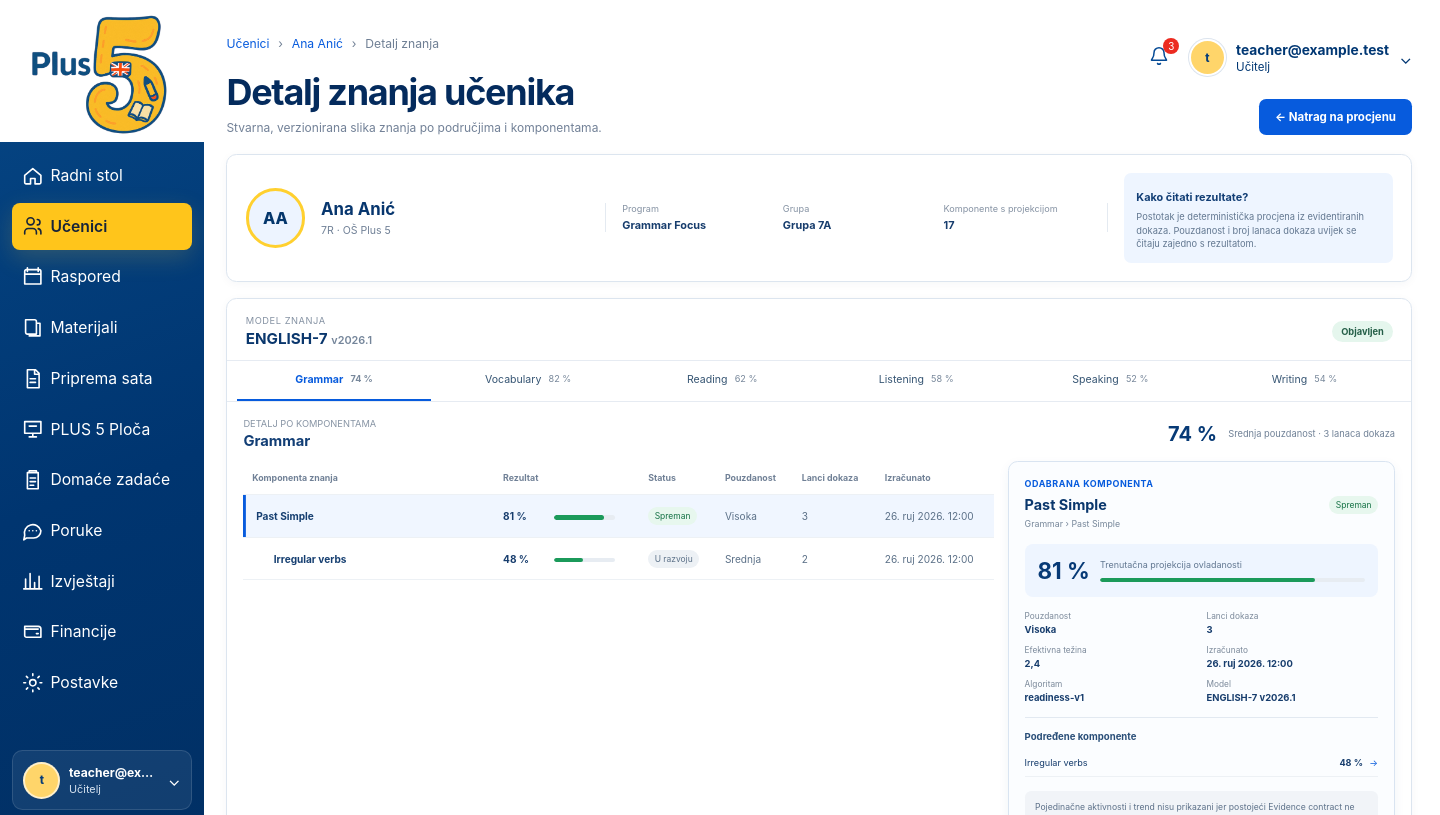
Test case: student knowledge detail › renders real component projections and switches model-defined areas
This screenshot has width=1440, height=815.
Expected: the heading "Detalj znanja učenika" is shown, top-left (226, 70), bottom-right (602, 114)
Expected: the text "7R · OŠ Plus 5" is shown, top-left (321, 224), bottom-right (391, 237)
Step 1. Click the button "Irregular verbs" → x=301, y=559, box top-left (252, 549), bottom-right (350, 568)
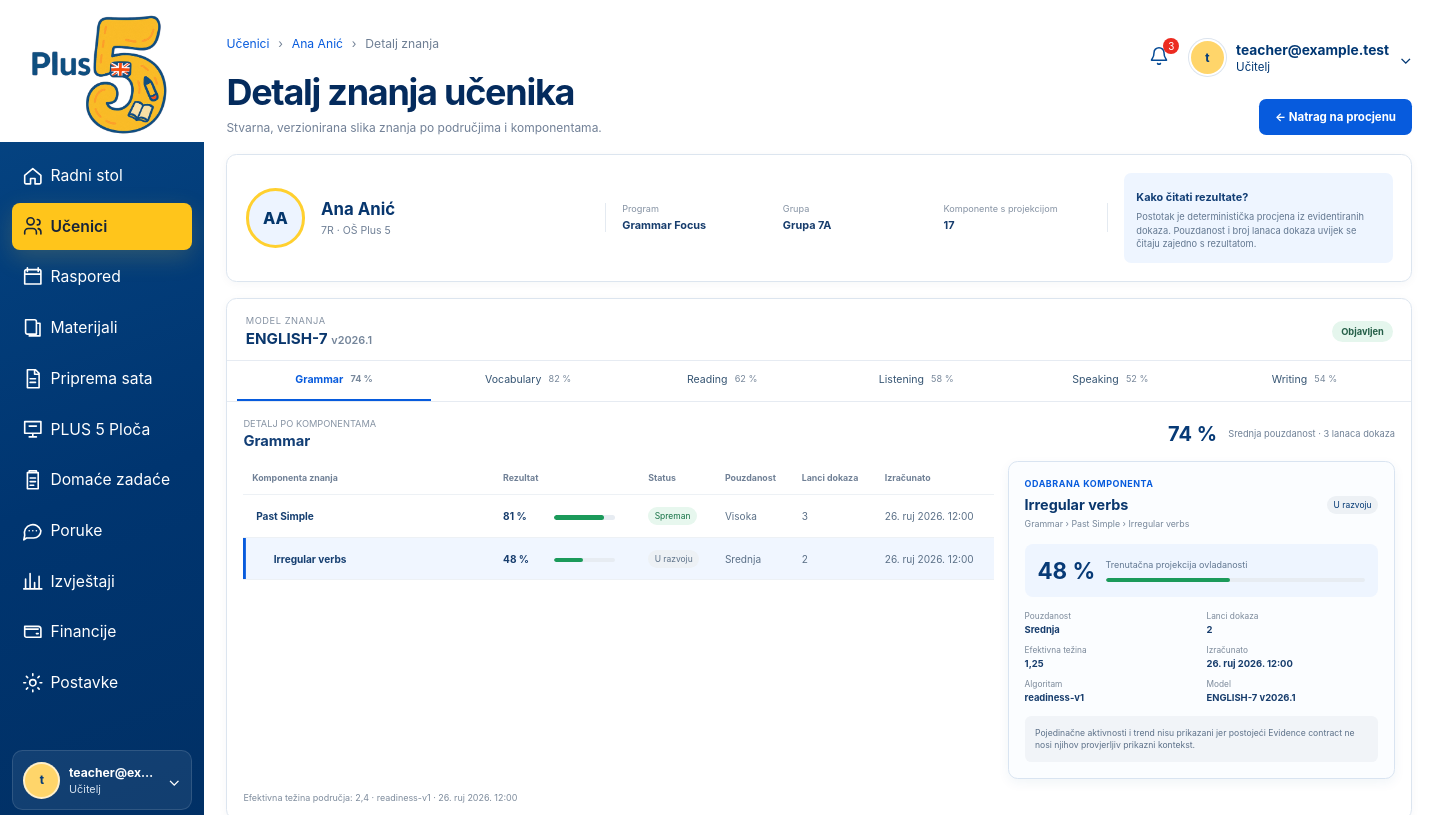
Expected: the text "Pojedinačne aktivnosti i trend nisu prikazani" is shown, top-left (1035, 728), bottom-right (1355, 750)
Expected: the heading "Irregular verbs" is shown, top-left (1025, 496), bottom-right (1128, 513)
Expected: the text "Grammar › Past Simple › Irregular verbs" is shown, top-left (1025, 518), bottom-right (1189, 530)
Step 2. Click the tab "Listening 58 %" → x=916, y=381, box top-left (819, 361), bottom-right (1013, 401)
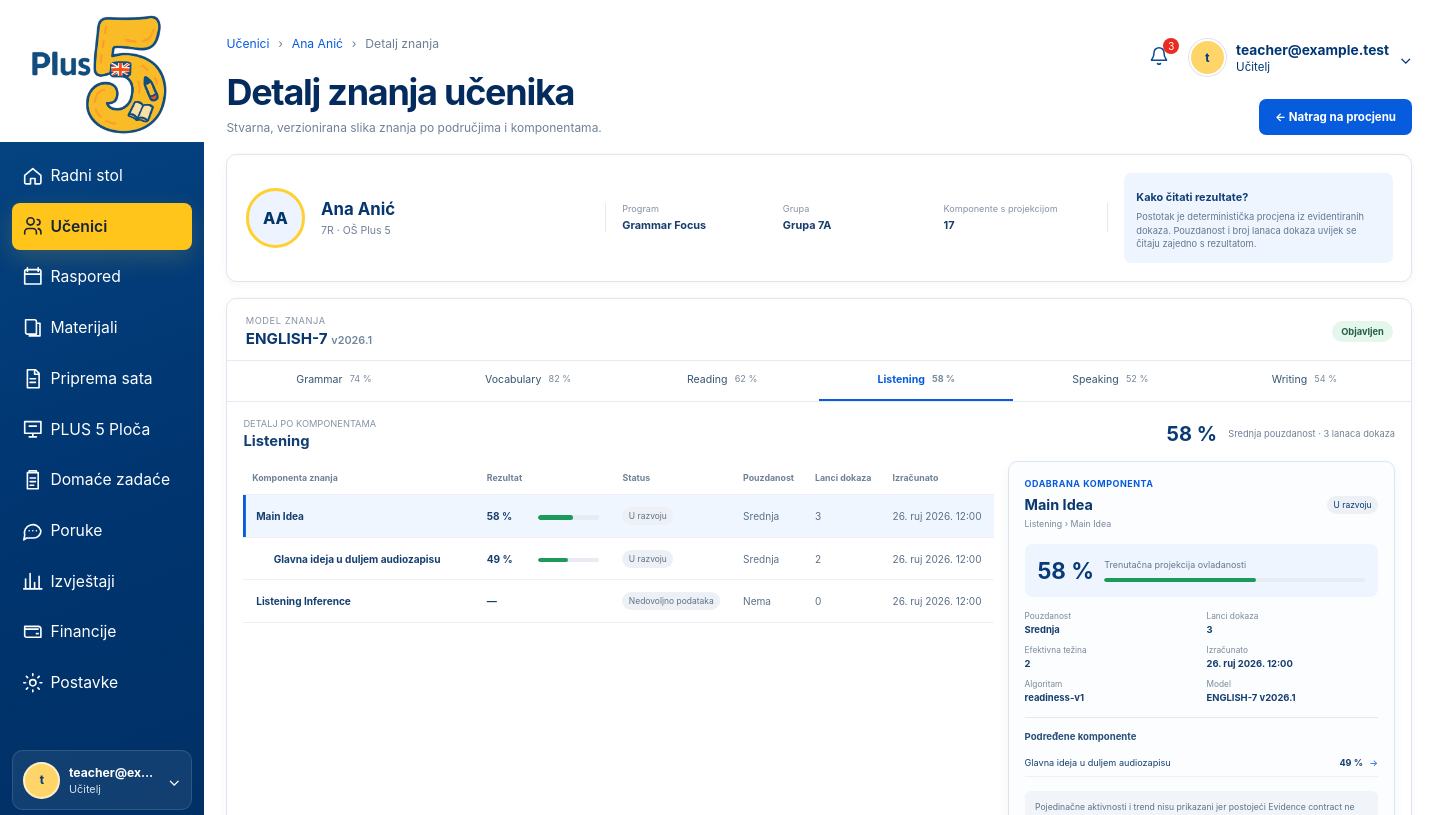
Expected: the row "Listening Inference" is shown, top-left (243, 580), bottom-right (994, 622)
Expected: the text "—" is shown, top-left (487, 595), bottom-right (497, 607)
Expected: the text "Nedovoljno podataka" is shown, top-left (622, 592), bottom-right (720, 610)
